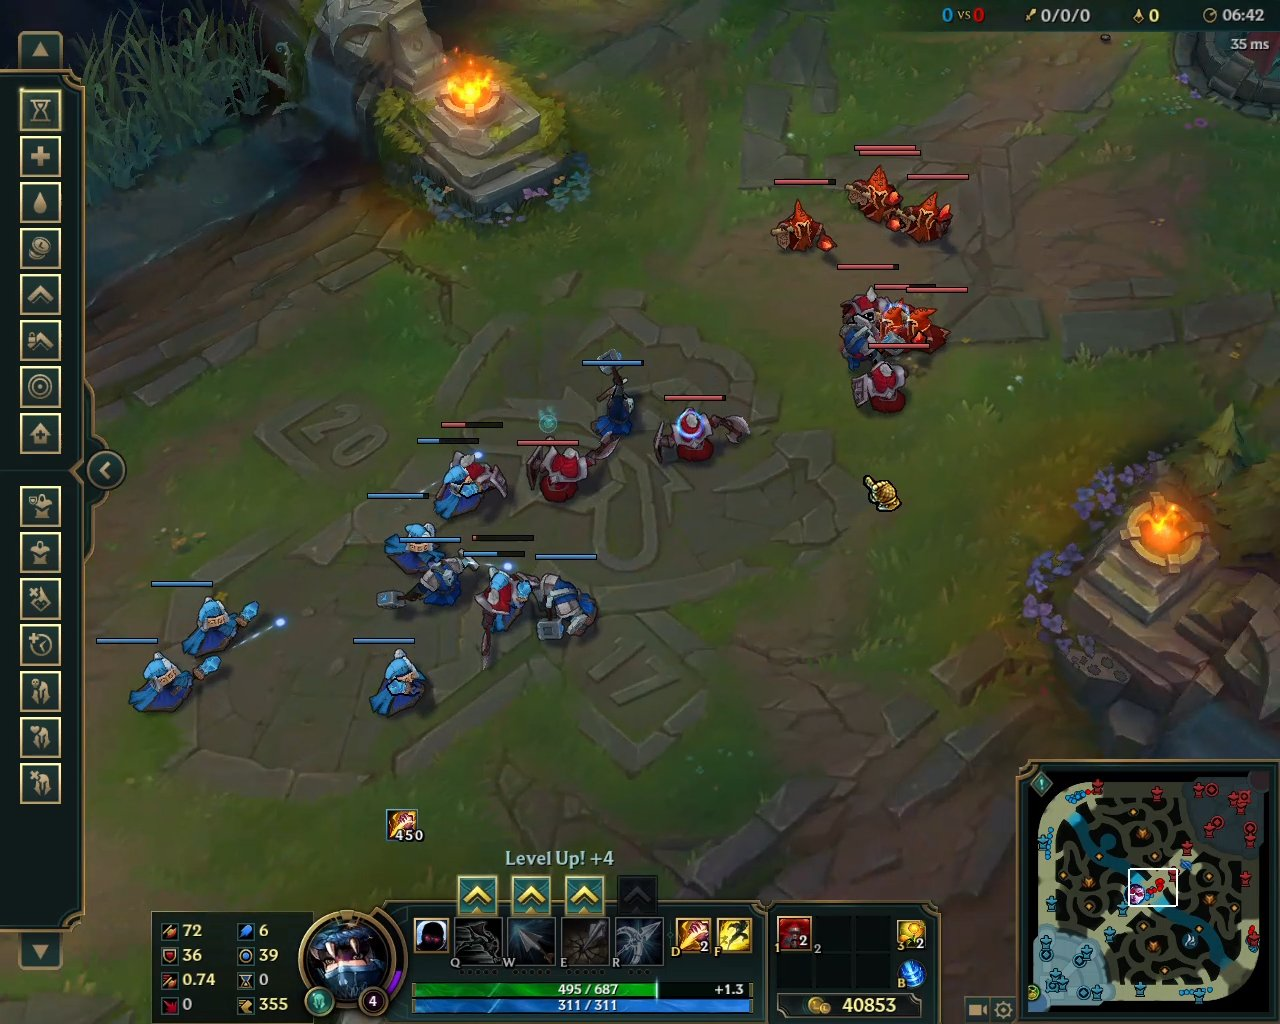EnemyMinion: (649, 392, 751, 471), (520, 429, 621, 505), (840, 144, 922, 223), (877, 282, 971, 349), (843, 343, 930, 415), (886, 173, 970, 246), (772, 178, 840, 259), (449, 420, 509, 496)
